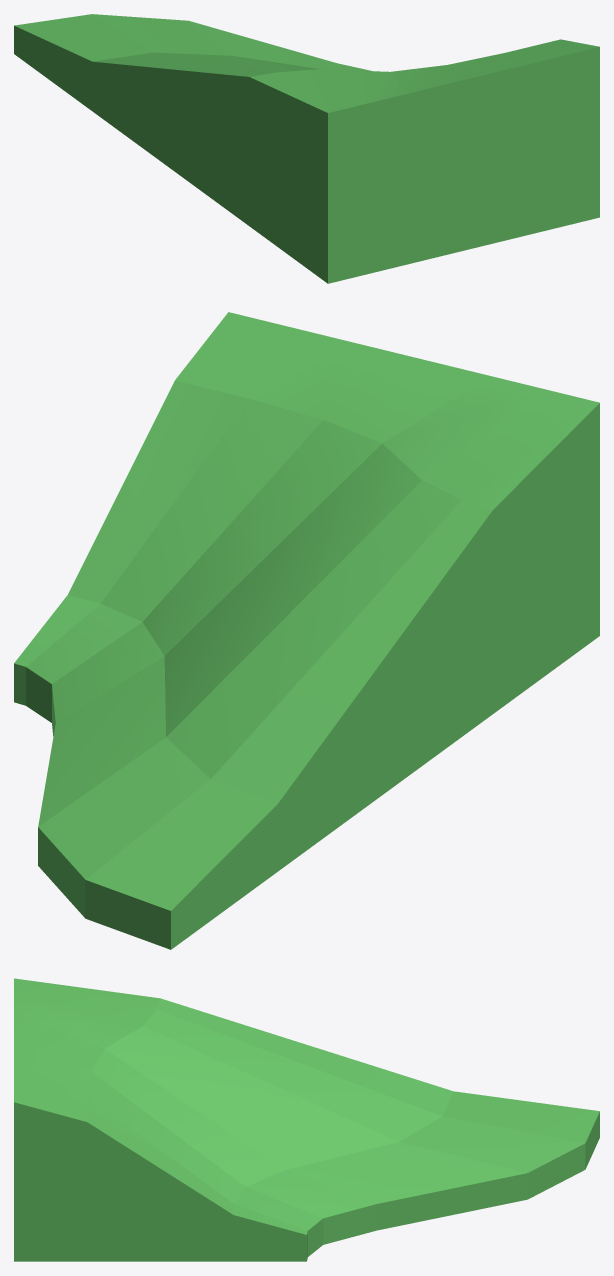
The model's file is Hill_Side_Transition_To_Gentle.glb.
3 renders of one model, top to bottom at view 1: azimuth 30°, elevation 25°; view 2: azimuth 150°, elevation 25°; view 3: azimuth 270°, elevation 25°, orthographic. The views are drawn at different scales.
Visible parts, largest first — view 1: object1; view 2: object1; view 3: object1.
Part boxes in pixels (x1,y1,x2,y2): object1: (14, 14, 599, 283); object1: (14, 312, 599, 949); object1: (14, 978, 599, 1261).
Bounding box in the file's own units: 2 × 1.2 × 4.
